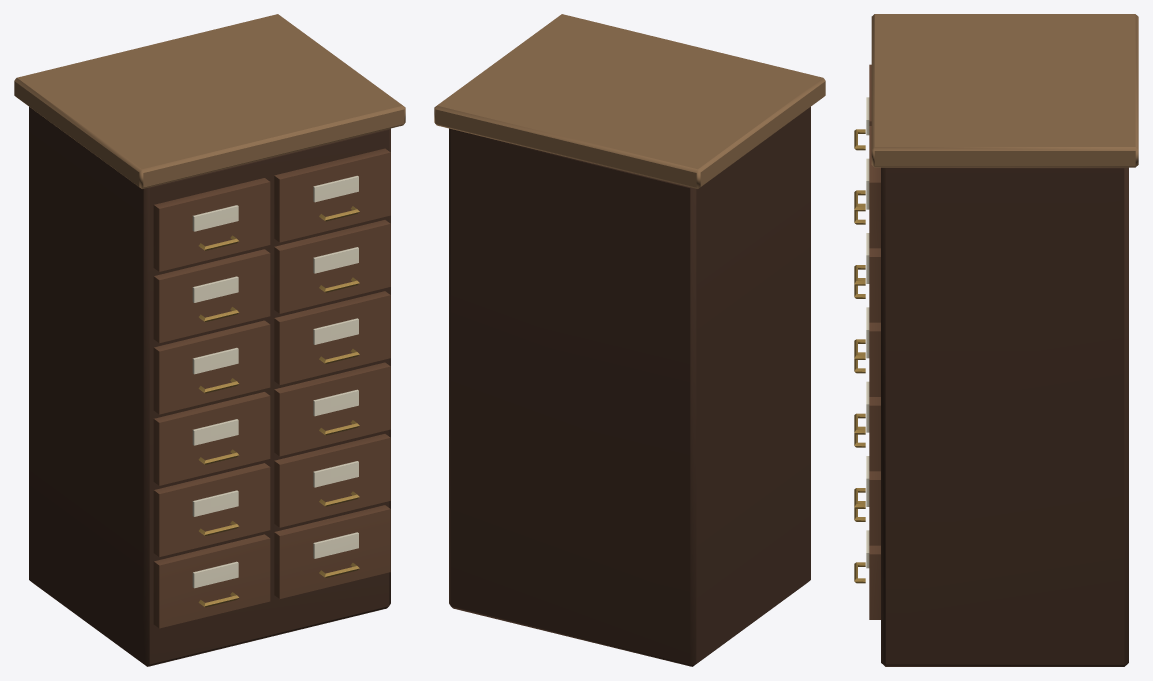
Rendered from catalog_cards.glb.
The picture shows the model from 3 angles, left to right: view 1: azimuth 30°, elevation 25°; view 2: azimuth 150°, elevation 25°; view 3: azimuth 270°, elevation 25°; orthographic projection. The views are drawn at different scales.
Parts seen in each view (by area): view 1: catalog_cards; view 2: catalog_cards; view 3: catalog_cards.
Boxes of the visible parts, bbox=[...] form: catalog_cards: bbox=[14, 14, 405, 666]; catalog_cards: bbox=[434, 14, 825, 666]; catalog_cards: bbox=[854, 14, 1138, 666].
Size of the model in its own units: 0.84 by 1.52 by 0.7449.
